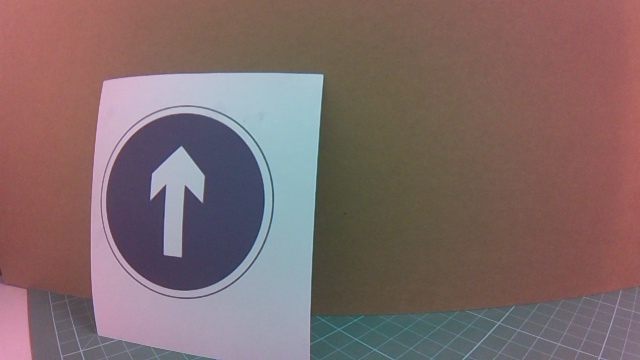forward: (116, 103, 299, 309)
